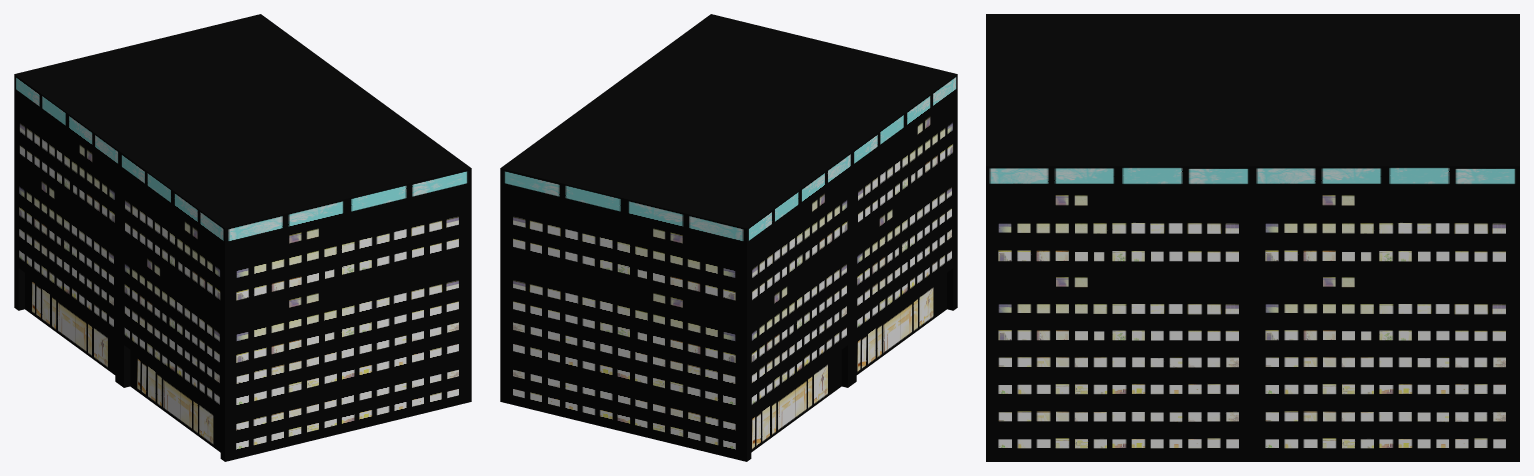
The model's file is building18.FBX.
The picture shows the model from 3 angles, left to right: view 1: azimuth 30°, elevation 25°; view 2: azimuth 150°, elevation 25°; view 3: azimuth 270°, elevation 25°; orthographic projection. The views are drawn at different scales.
Parts seen in each view (by area): view 1: Box001; view 2: Box001; view 3: Box001.
Part boxes in pixels (x1=…): Box001: x1=14, y1=14, x2=471, y2=461; Box001: x1=500, y1=14, x2=957, y2=461; Box001: x1=986, y1=14, x2=1519, y2=461.
Bounding box in the file's own units: 103 × 93.1 × 152.
